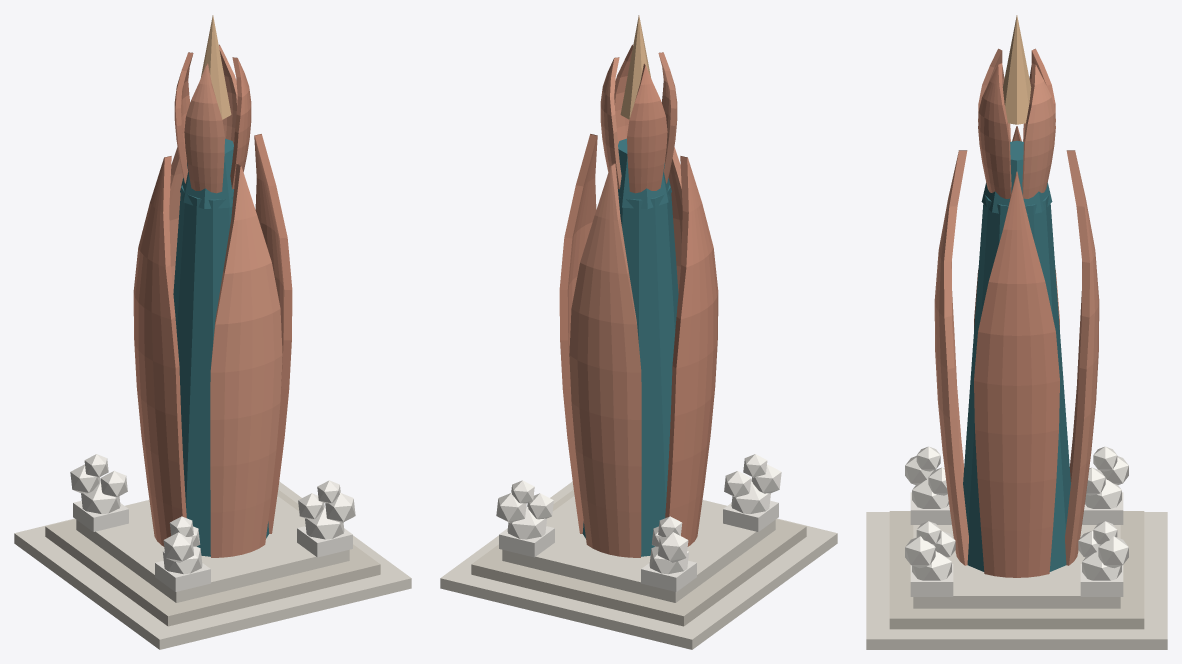
Rendered from tramhuong.glb.
The picture shows the model from 3 angles, left to right: view 1: azimuth 30°, elevation 25°; view 2: azimuth 150°, elevation 25°; view 3: azimuth 270°, elevation 25°; orthographic projection. The views are drawn at different scales.
Visible parts, largest first — view 1: tramhuong; view 2: tramhuong; view 3: tramhuong.
Part boxes in pixels (left/top/right/bottom): tramhuong: left=14, top=15, right=411, bottom=649; tramhuong: left=440, top=15, right=837, bottom=649; tramhuong: left=866, top=15, right=1167, bottom=649.
Bounding box in the file's own units: 6.4 × 13.4 × 6.4.
